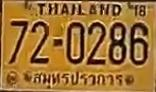0: (67, 22, 85, 64)
2: (31, 20, 50, 63), (86, 22, 105, 64)
6: (130, 23, 148, 65)
7: (9, 20, 27, 63)
8: (109, 21, 126, 64)
SPK: (31, 69, 125, 91)
